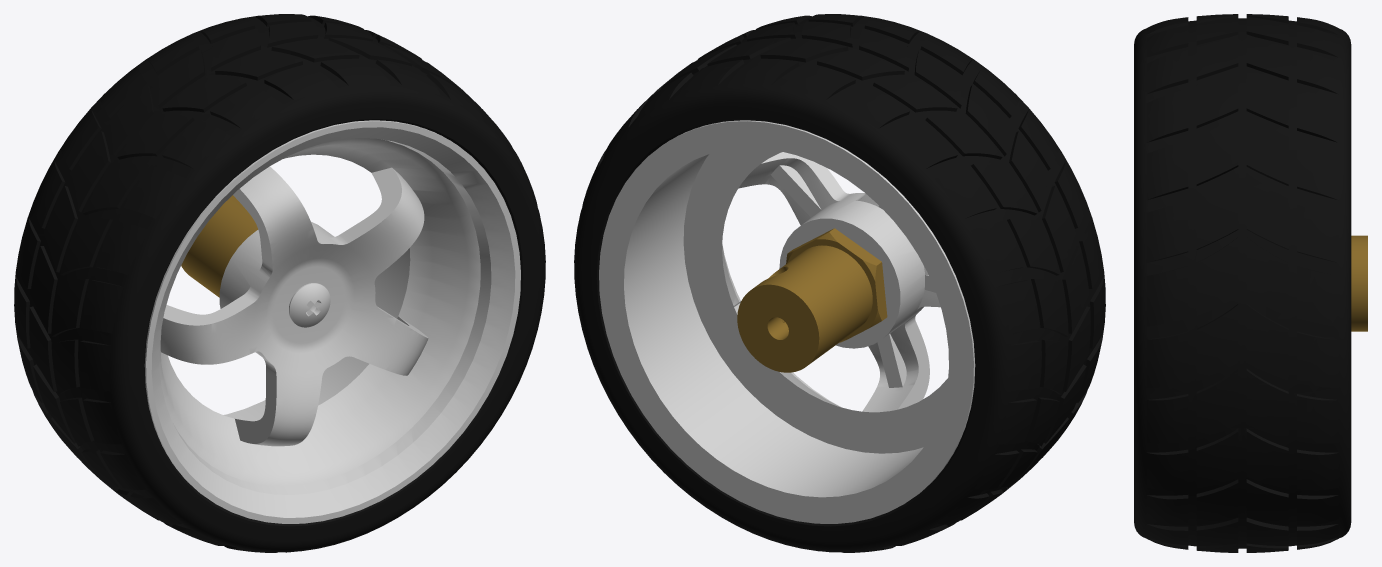
File: left_wheel_visual.dae
3 renders of one model, left to right at view 1: azimuth 30°, elevation 25°; view 2: azimuth 150°, elevation 25°; view 3: azimuth 270°, elevation 25°, orthographic.
Parts seen in each view (by area): view 1: left-wheel_20171025-ensamblaje_componentes-R12_004; view 2: left-wheel_20171025-ensamblaje_componentes-R12_004; view 3: left-wheel_20171025-ensamblaje_componentes-R12_004.
Boxes of the visible parts, box(x1,y1,x2,y2) form: left-wheel_20171025-ensamblaje_componentes-R12_004: box(14, 14, 545, 552); left-wheel_20171025-ensamblaje_componentes-R12_004: box(574, 14, 1105, 552); left-wheel_20171025-ensamblaje_componentes-R12_004: box(1134, 14, 1367, 552).
Size of the model in its own units: 0.0645 by 0.028 by 0.0645.
